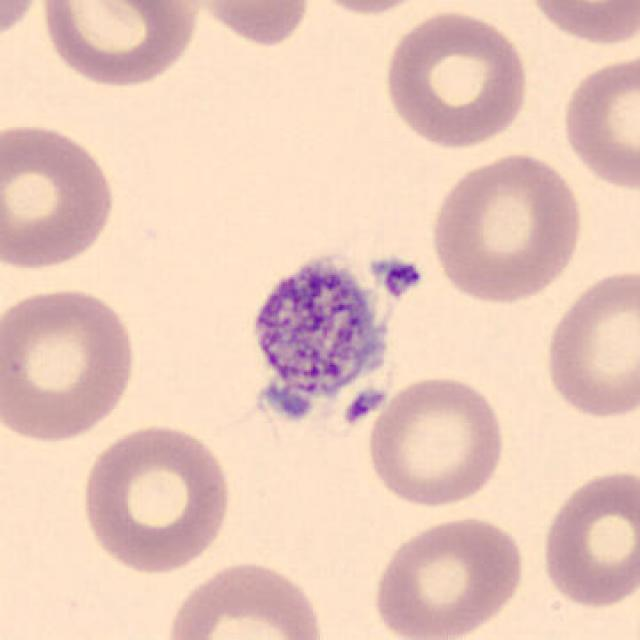Platelets: (257, 256, 385, 384), (257, 380, 320, 426), (369, 254, 426, 298), (341, 386, 384, 427)
RBC: (425, 146, 588, 307), (76, 419, 236, 576), (0, 282, 142, 446), (379, 5, 533, 152), (363, 371, 510, 512), (368, 511, 528, 640), (0, 118, 121, 275), (538, 263, 636, 423), (36, 0, 204, 90), (537, 464, 638, 612), (160, 557, 331, 640), (556, 51, 638, 194), (186, 0, 316, 49), (519, 0, 640, 49), (297, 0, 441, 18), (0, 0, 46, 49)
